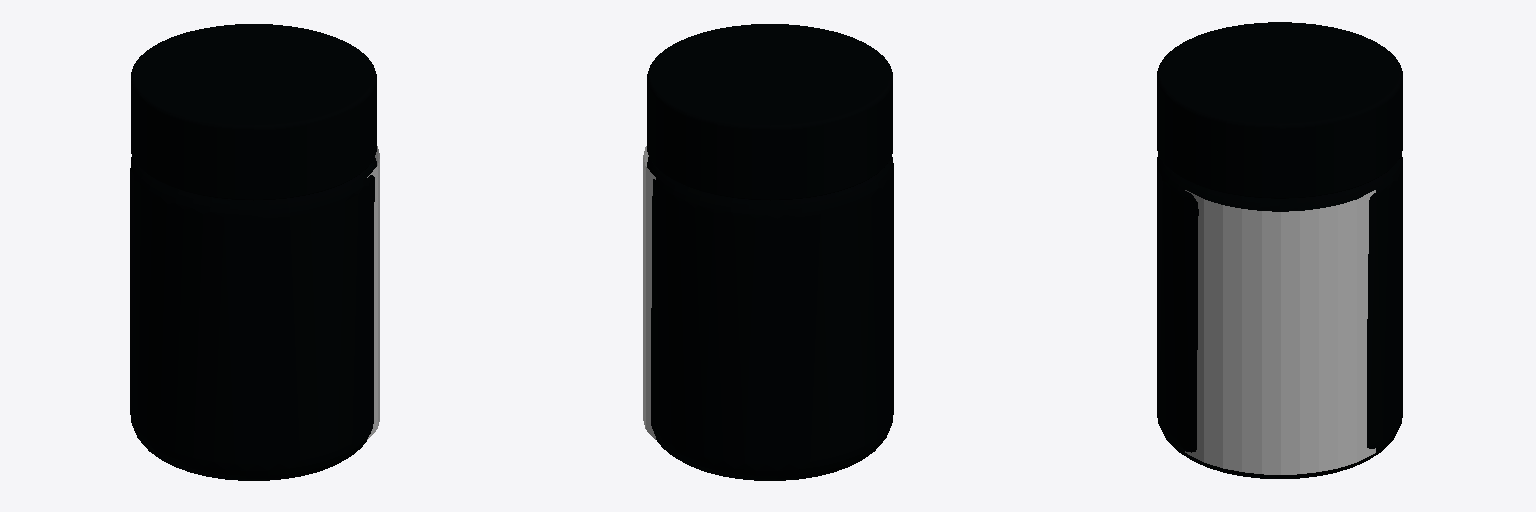
Rendered from bottle01.obj.
The picture shows the model from 3 angles: view 1: azimuth 30°, elevation 25°; view 2: azimuth 150°, elevation 25°; view 3: azimuth 270°, elevation 25°; orthographic projection.
Parts seen in each view (by area): view 1: Blue_on_blue_bottle_v25, Blue_on_blue_bottle_v25.002, texture; view 2: Blue_on_blue_bottle_v25, Blue_on_blue_bottle_v25.002, texture; view 3: texture, Blue_on_blue_bottle_v25.002, Blue_on_blue_bottle_v25.
Part boxes in pixels (left/top/right/bottom): Blue_on_blue_bottle_v25: left=130, top=156, right=376, bottom=480; Blue_on_blue_bottle_v25.002: left=131, top=24, right=376, bottom=200; texture: left=367, top=146, right=379, bottom=439; Blue_on_blue_bottle_v25: left=647, top=156, right=893, bottom=480; Blue_on_blue_bottle_v25.002: left=647, top=24, right=892, bottom=200; texture: left=643, top=146, right=655, bottom=439; texture: left=1185, top=190, right=1375, bottom=474; Blue_on_blue_bottle_v25.002: left=1157, top=22, right=1402, bottom=198; Blue_on_blue_bottle_v25: left=1157, top=154, right=1402, bottom=478.
Bounding box in the file's own units: 65.48 × 104 × 63.94.